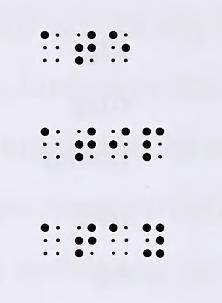a: (40, 31, 60, 64), (40, 223, 60, 256), (40, 127, 60, 159), (109, 223, 129, 255)
e: (109, 31, 130, 63)
i: (109, 127, 130, 159)
p: (142, 127, 164, 161)
t: (74, 127, 96, 162), (74, 223, 96, 257), (75, 31, 96, 65)
y: (143, 223, 164, 258)
